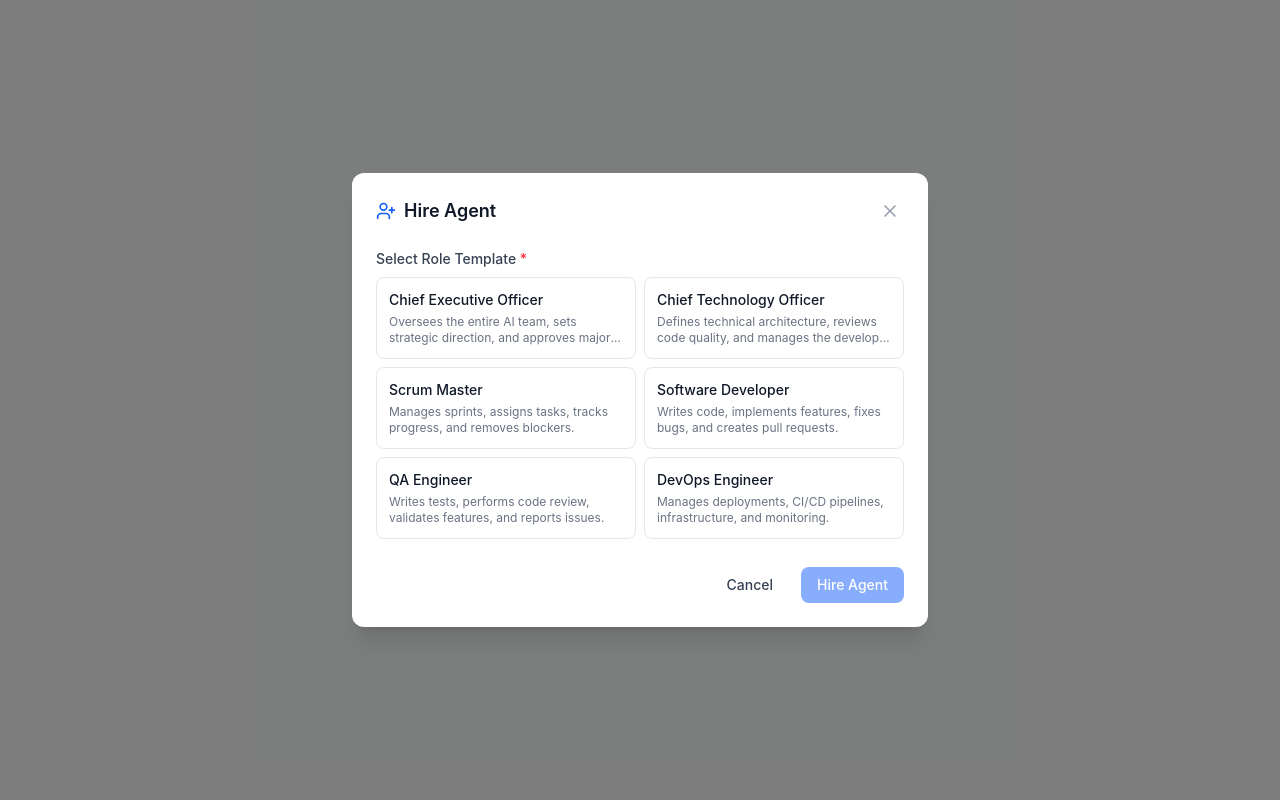
Test: AgentForm › renders manager dropdown when agents provided
Note: Select a template first
Click the text "Software Developer" at (723, 390), box left=657, top=381, right=789, bottom=398
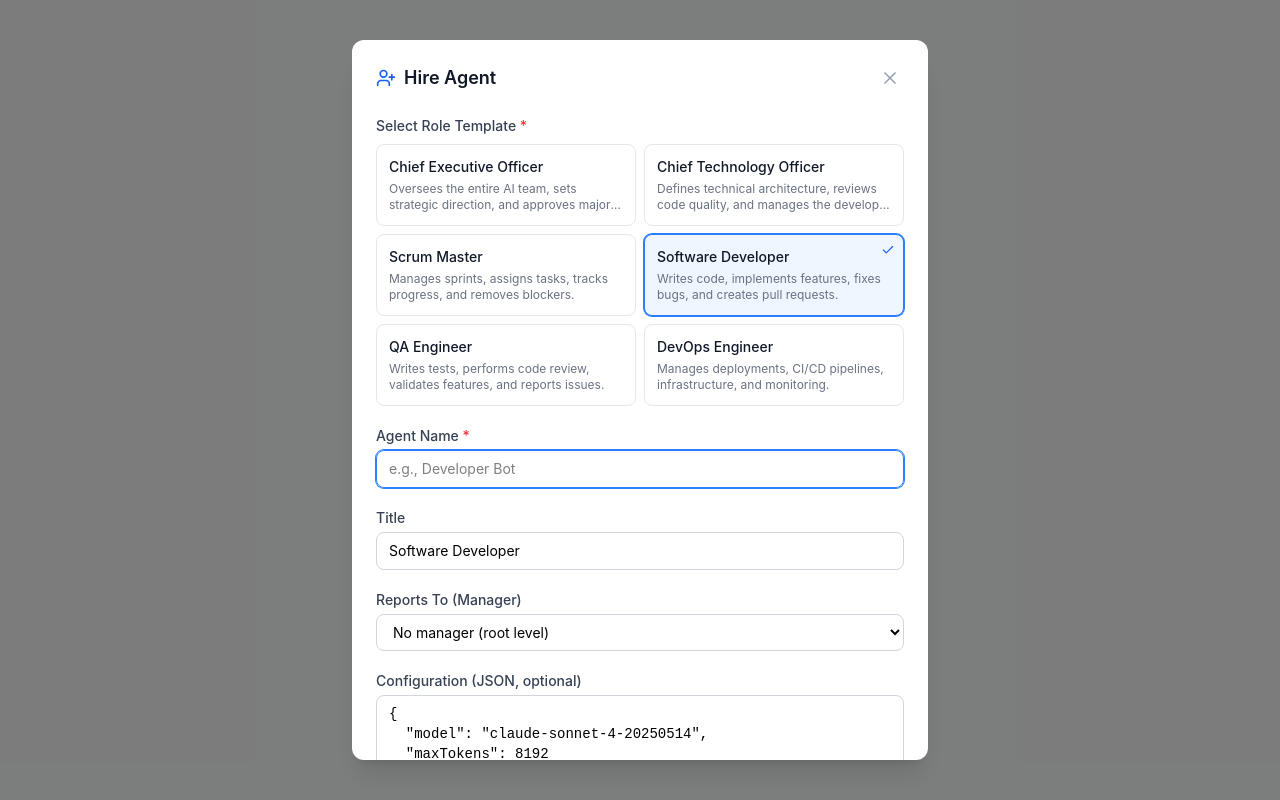
expect the dropdown labelled "Reports To (Manager)" is shown: met, box left=376, top=614, right=904, bottom=651
